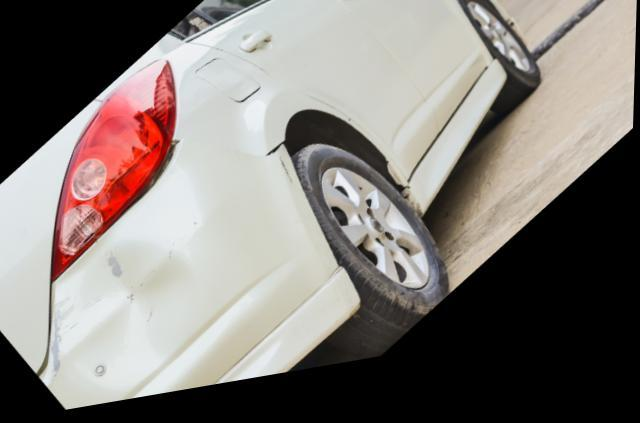dent: (64, 242, 203, 397)
lamp broken: (52, 65, 178, 285)
scratch: (44, 304, 67, 391)
